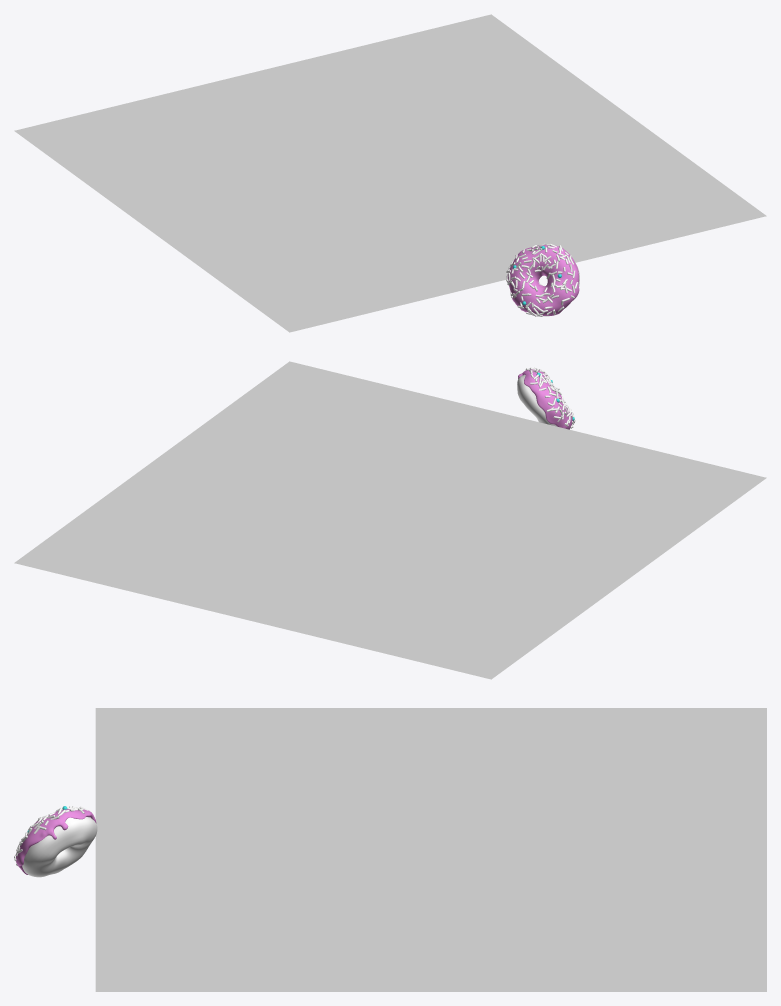
The model's file is donut_web.glb.
The picture shows the model from 3 angles, top to bottom: view 1: azimuth 30°, elevation 25°; view 2: azimuth 150°, elevation 25°; view 3: azimuth 270°, elevation 25°; orthographic projection. The views are drawn at different scales.
Parts seen in each view (by area): view 1: Plane, Icing; view 2: Plane, Icing, Donut; view 3: Plane, Donut, Icing.
Part boxes in pixels (left/top/right/bottom): Plane: left=14, top=14, right=766, bottom=332; Icing: left=507, top=245, right=579, bottom=315; Plane: left=14, top=361, right=766, bottom=679; Icing: left=518, top=369, right=573, bottom=429; Donut: left=517, top=374, right=556, bottom=426; Plane: left=95, top=708, right=766, bottom=991; Donut: left=22, top=817, right=97, bottom=877; Icing: left=16, top=809, right=96, bottom=874.
Bounding box in the file's own units: 2 × 0.2498 × 2.24.
